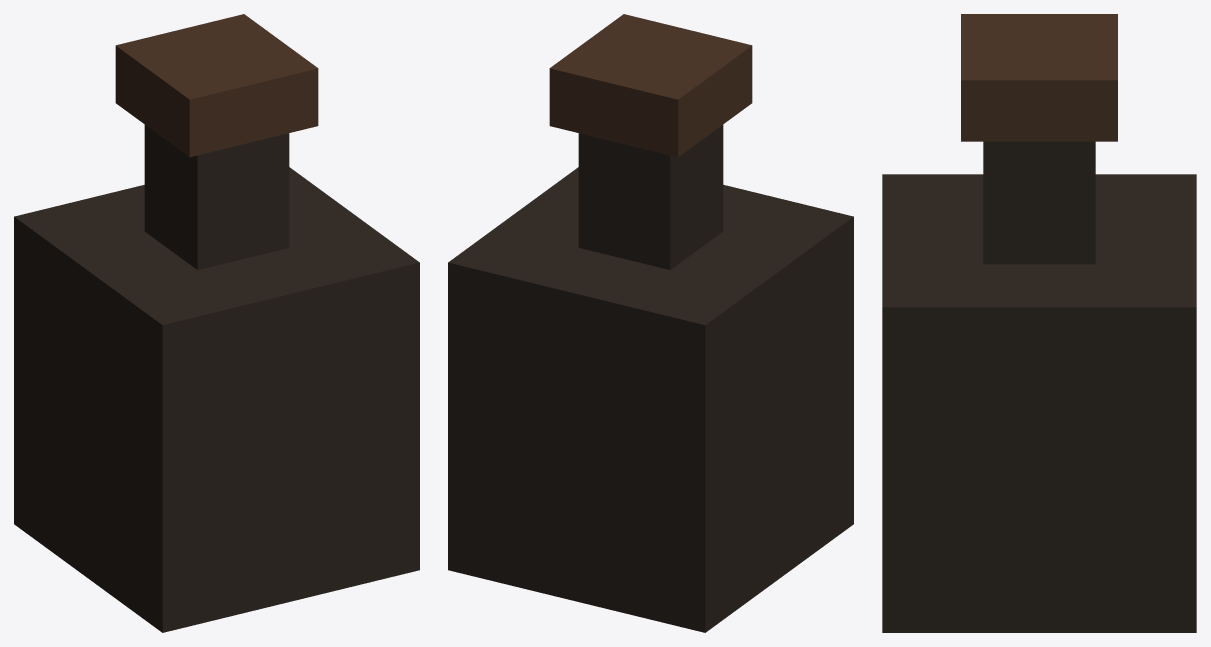
The model's file is pickup_ink.glb.
The picture shows the model from 3 angles, left to right: view 1: azimuth 30°, elevation 25°; view 2: azimuth 150°, elevation 25°; view 3: azimuth 270°, elevation 25°; orthographic projection. The views are drawn at different scales.
Visible parts, largest first — view 1: PICKUP_Ink; view 2: PICKUP_Ink; view 3: PICKUP_Ink.
Part boxes in pixels (x1=…): PICKUP_Ink: x1=14, y1=14, x2=419, y2=632; PICKUP_Ink: x1=448, y1=14, x2=853, y2=632; PICKUP_Ink: x1=882, y1=14, x2=1196, y2=632.
Size of the model in its own units: 0.14 by 0.255 by 0.14.
